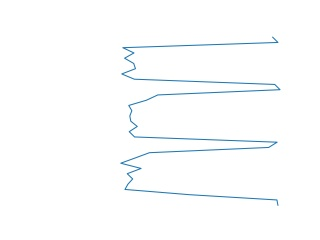majorRiverChannelBar: (118, 38, 285, 207)
